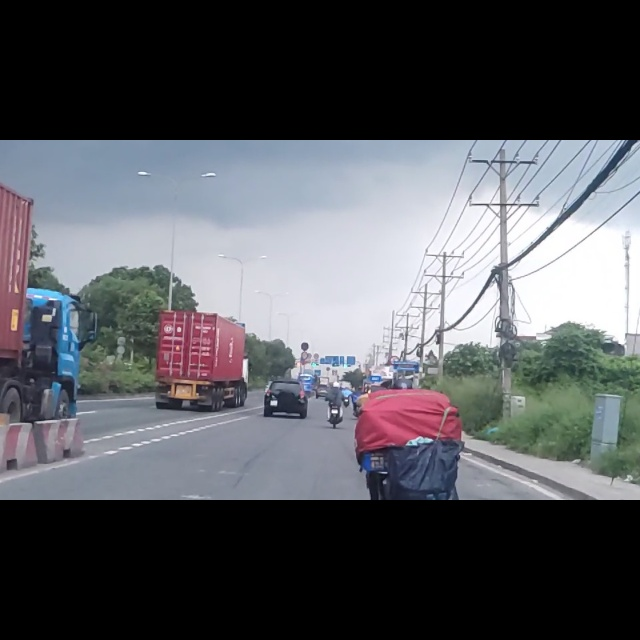bien_cam: (300, 359, 310, 375)
